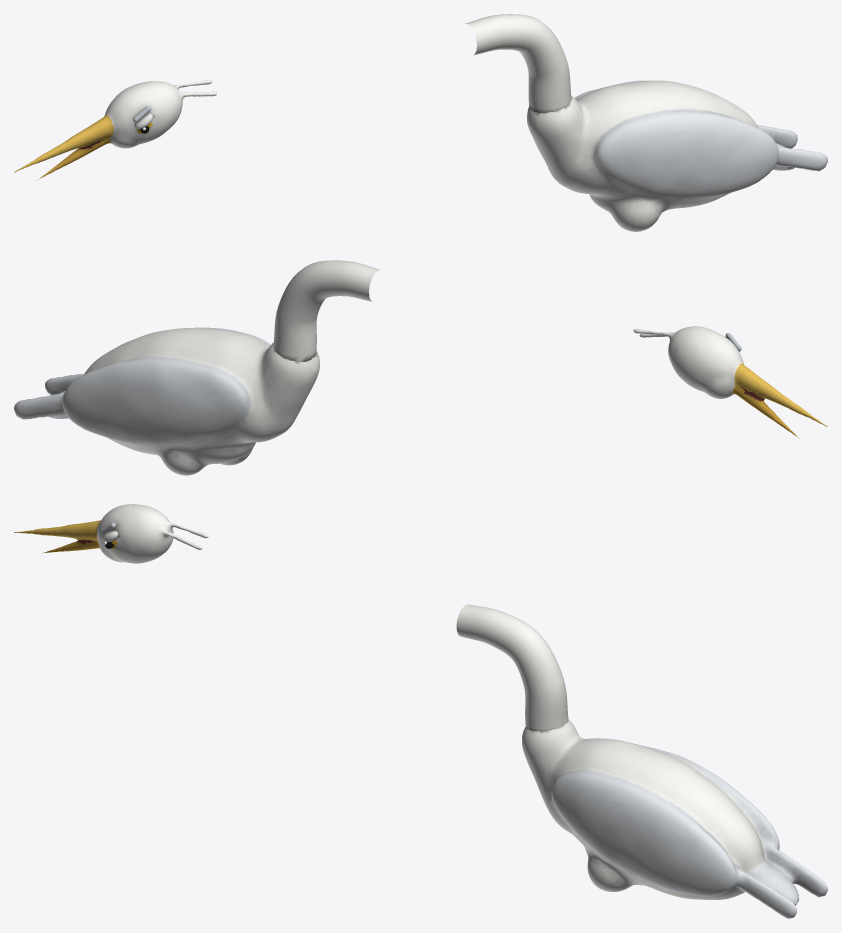
File: hur-lang-tid-tar-det.glb
The picture shows the model from 3 angles, top to bottom: view 1: azimuth 30°, elevation 25°; view 2: azimuth 150°, elevation 25°; view 3: azimuth 330°, elevation 25°; orthographic projection.
Visible parts, largest first — view 1: garca__r0, cabeca__r0, garca__r1; view 2: garca__r0, cabeca__r0, garca__r1; view 3: garca__r0, garca__r1, cabeca__r0.
Boxes of the visible parts, left/top/right/bottom form: garca__r0: left=527, top=80, right=827, bottom=231; cabeca__r0: left=14, top=79, right=216, bottom=180; garca__r1: left=465, top=14, right=571, bottom=112; garca__r0: left=14, top=327, right=319, bottom=475; cabeca__r0: left=633, top=326, right=827, bottom=438; garca__r1: left=273, top=260, right=380, bottom=362; garca__r0: left=522, top=719, right=827, bottom=918; garca__r1: left=456, top=604, right=568, bottom=731; cabeca__r0: left=14, top=504, right=208, bottom=563.
Bounding box in the file's own units: 3.64 × 1.13 × 0.4857.
